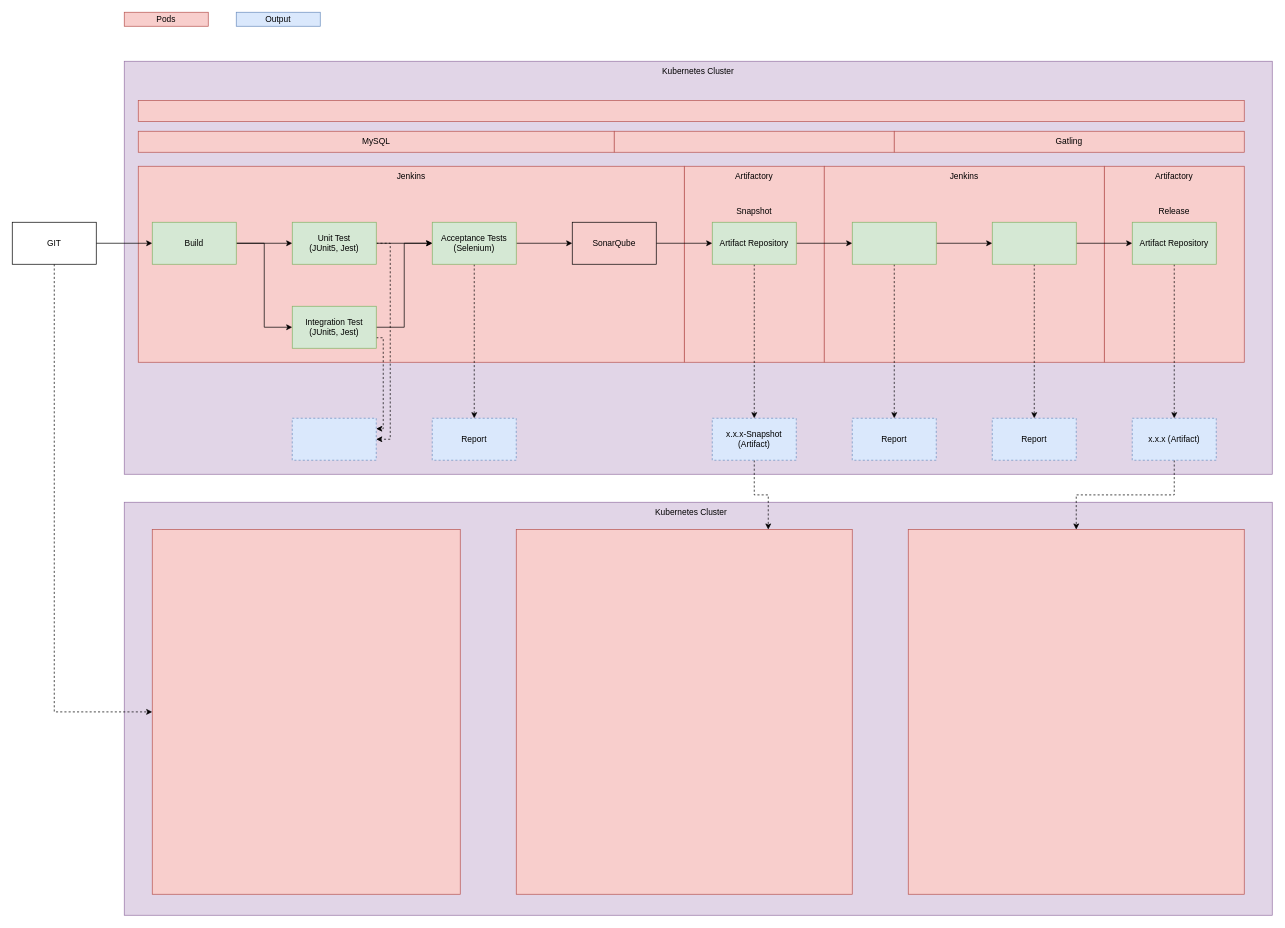
Image size: 1285x928. Some labels were removed from this diagram. The shapes that lost their labels are listed below. From the top down, each one's centre as x and y in pixels, then its label:
At pixel 691 110: "Mailhog".
At pixel 754 141: "KeyCloak".
At pixel 894 243: "Smoke Tests".
At pixel 1034 243: "Performance Tests (Gatling)".
At pixel 334 439: "Reports".
At pixel 306 711: "DEV".
At pixel 684 711: "UAT".
At pixel 1076 711: "PROD".
